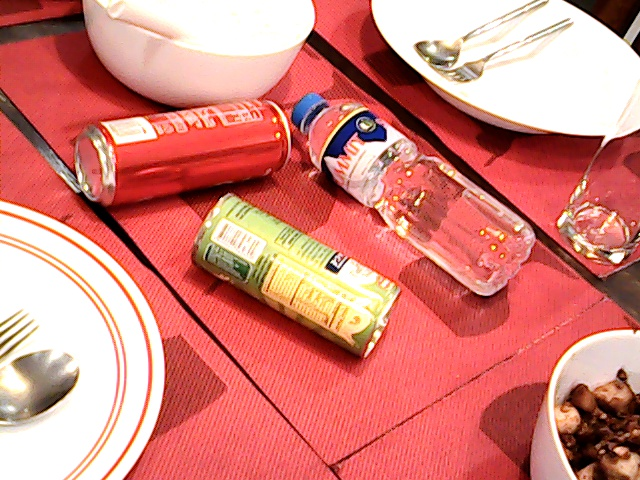Cola: (48, 90, 293, 207)
Pine Juice: (171, 196, 363, 350)
Summit Water: (301, 97, 506, 216)
